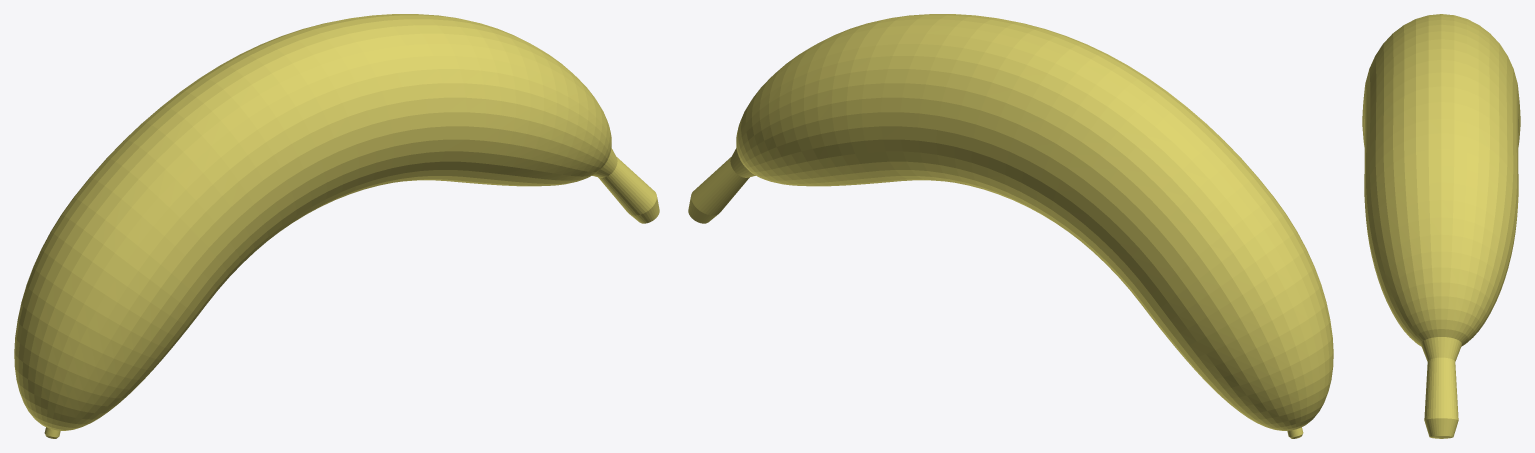
Rendered from banana.glb.
The picture shows the model from 3 angles, left to right: view 1: azimuth 30°, elevation 25°; view 2: azimuth 150°, elevation 25°; view 3: azimuth 270°, elevation 25°; orthographic projection. The views are drawn at different scales.
Visible parts, largest first — view 1: banana.obj; view 2: banana.obj; view 3: banana.obj.
Boxes of the visible parts, <box> form: banana.obj: <box>14,14,659,438</box>; banana.obj: <box>688,14,1333,438</box>; banana.obj: <box>1362,14,1520,438</box>.
Bounding box in the file's own units: 10.57 × 5.4 × 2.42.
